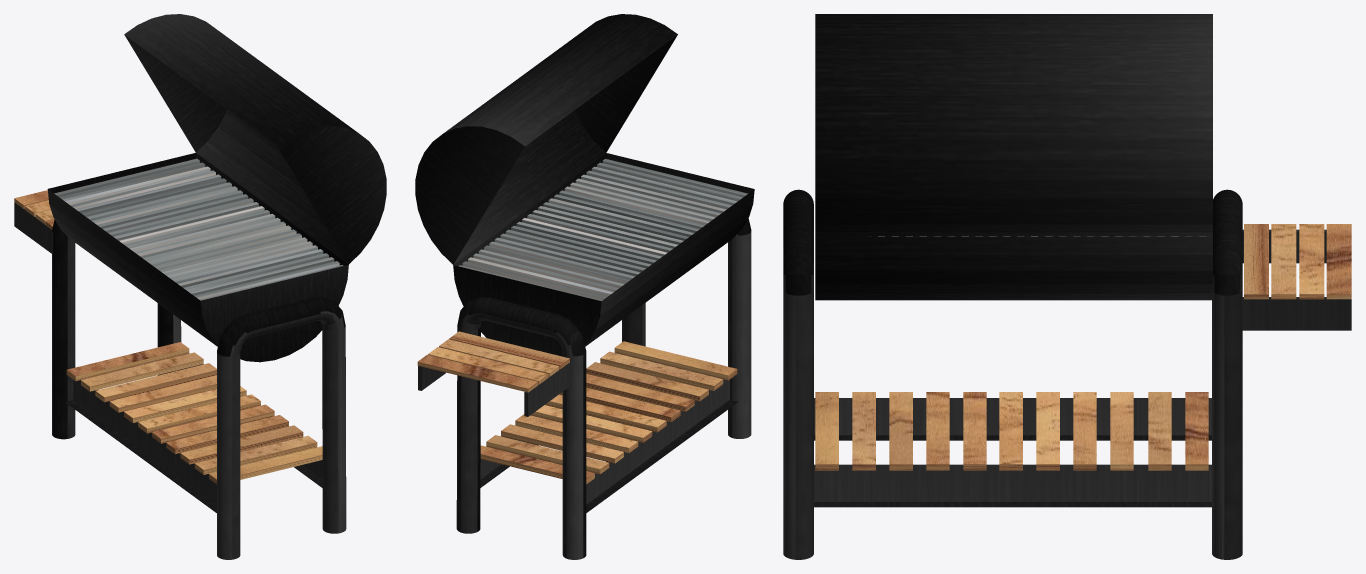
Rendered from parrilla.obj.
The picture shows the model from 3 angles, left to right: view 1: azimuth 30°, elevation 25°; view 2: azimuth 150°, elevation 25°; view 3: azimuth 270°, elevation 25°; orthographic projection. The views are drawn at different scales.
Parts seen in each view (by area): view 1: barril_arriba, soporte, rejillas, tablas, barril_abajo; view 2: barril_arriba, soporte, rejillas, tablas, barril_abajo; view 3: barril_arriba, soporte, tablas, barril_abajo.
Part boxes in pixels (x1=…): barril_arriba: x1=124, y1=14, x2=386, y2=264; soporte: x1=14, y1=202, x2=346, y2=559; rejillas: x1=54, y1=158, x2=343, y2=300; tablas: x1=14, y1=190, x2=322, y2=484; barril_abajo: x1=47, y1=153, x2=348, y2=362; barril_arriba: x1=415, y1=14, x2=677, y2=264; soporte: x1=418, y1=218, x2=751, y2=559; rejillas: x1=458, y1=158, x2=747, y2=300; tablas: x1=417, y1=331, x2=737, y2=484; barril_abajo: x1=453, y1=153, x2=754, y2=356; barril_arriba: x1=815, y1=14, x2=1212, y2=235; soporte: x1=783, y1=189, x2=1351, y2=559; tablas: x1=815, y1=224, x2=1351, y2=470; barril_abajo: x1=815, y1=236, x2=1212, y2=300.
Size of the model in its own units: 2.14 by 4.39 by 4.35.
5 materials, 5 textured.
